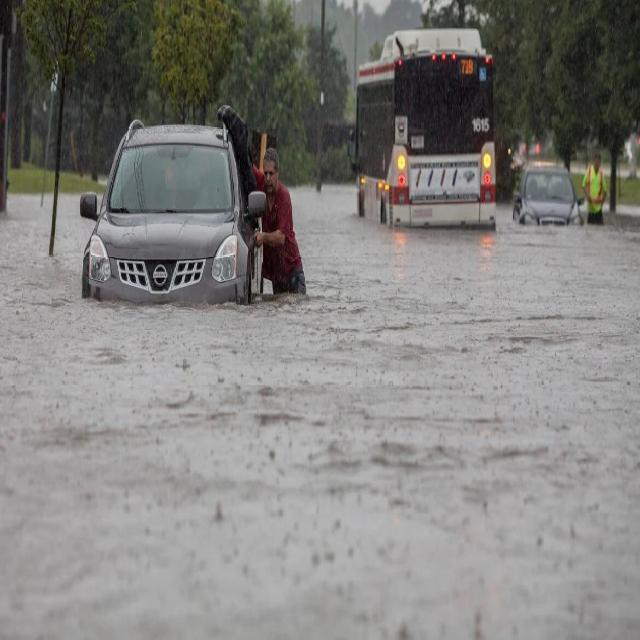water: (2, 182, 637, 638)
